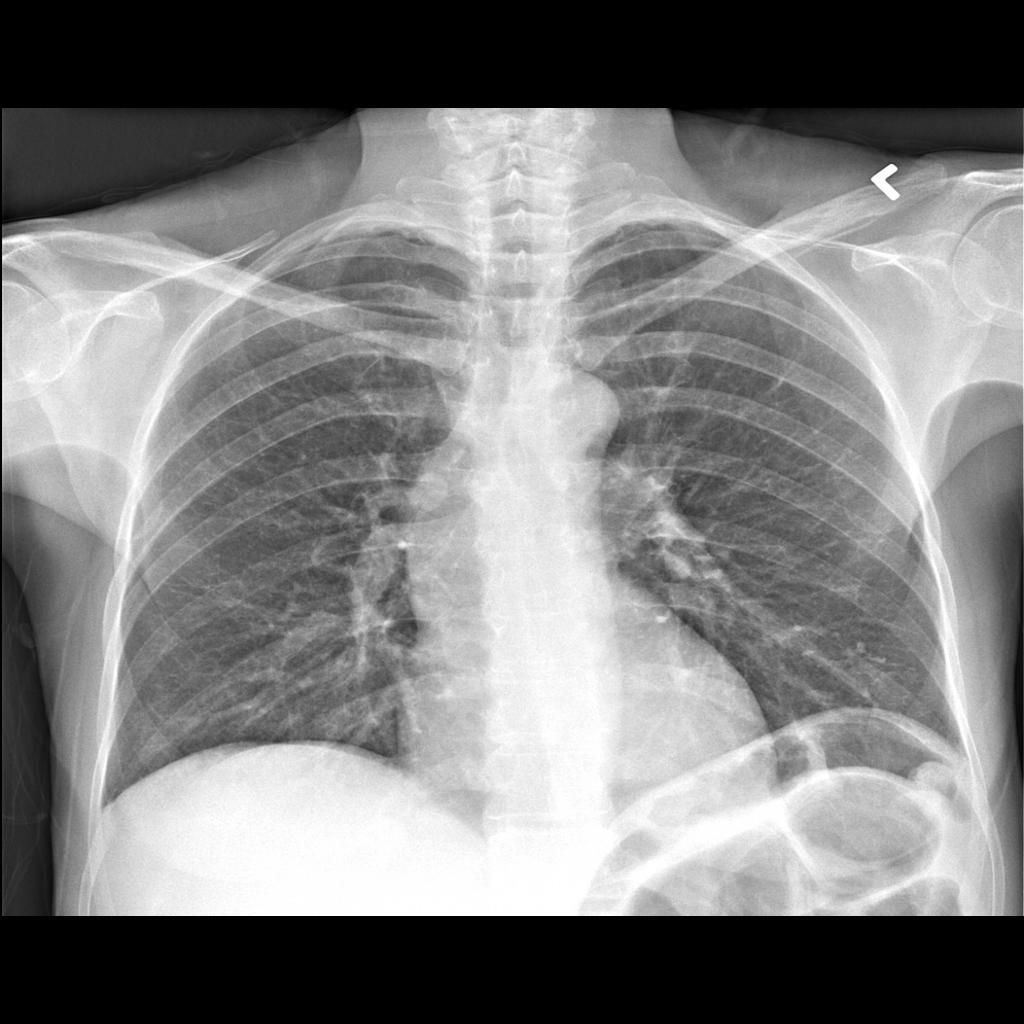Nodule: (407, 467, 451, 512)
